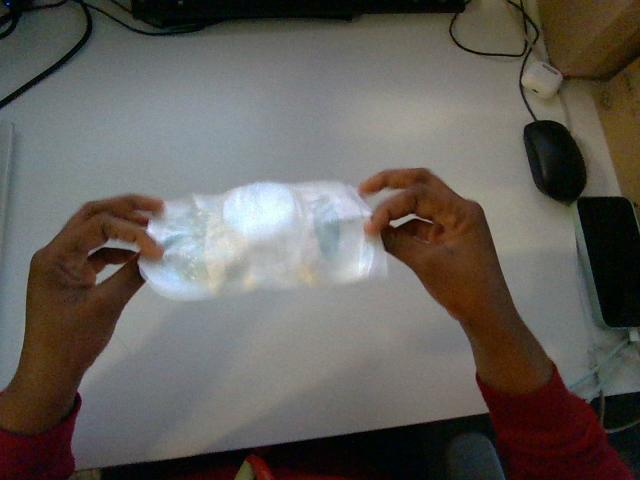gallipot: (139, 182, 386, 299)
